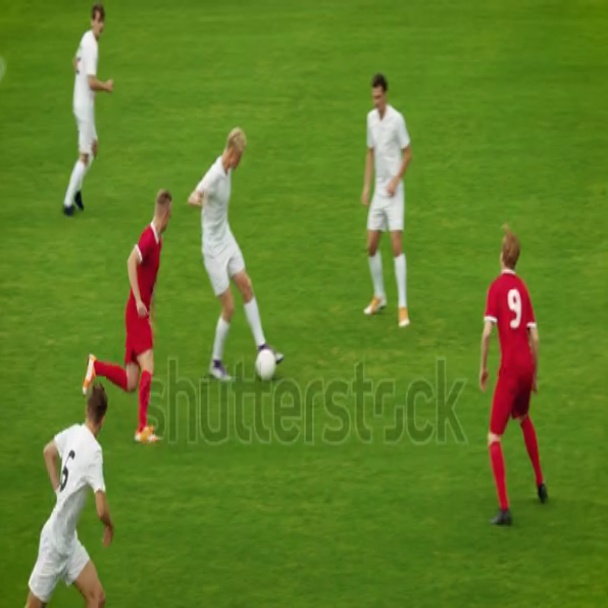ball: (252, 342, 281, 387)
